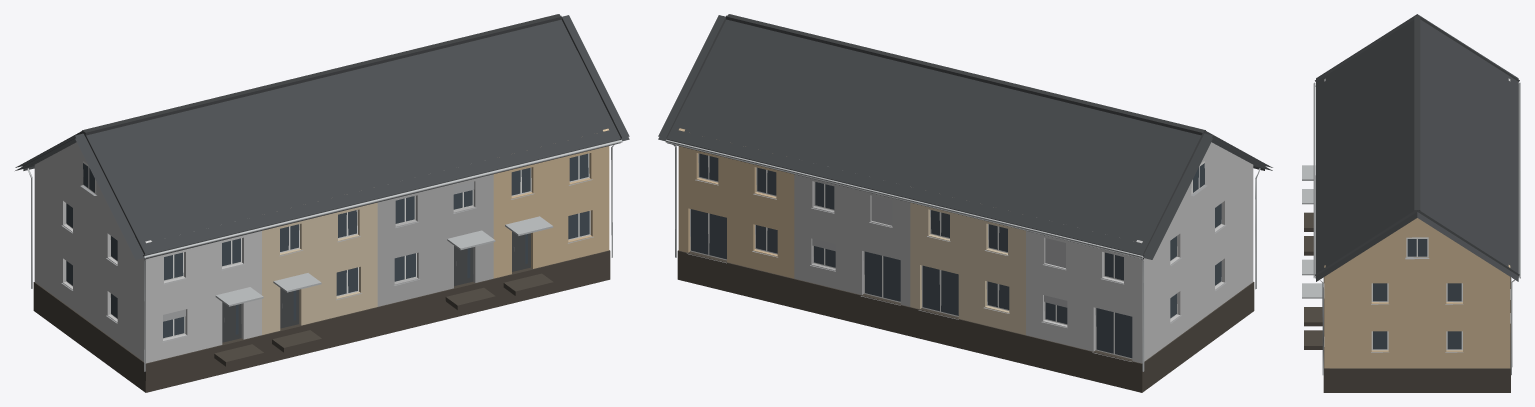
Rendered from house-terrace-row-lod1.glb.
The picture shows the model from 3 angles, left to right: view 1: azimuth 30°, elevation 25°; view 2: azimuth 150°, elevation 25°; view 3: azimuth 270°, elevation 25°; orthographic projection. The views are drawn at different scales.
Parts seen in each view (by area): view 1: house-terrace-row-plaster0.001; view 2: house-terrace-row-plaster0.001; view 3: house-terrace-row-plaster0.001.
Boxes of the visible parts, <box> form: house-terrace-row-plaster0.001: <box>15,14,629,392</box>; house-terrace-row-plaster0.001: <box>658,14,1272,392</box>; house-terrace-row-plaster0.001: <box>1302,14,1520,392</box>.
Bounding box in the file's own units: 25.6 × 11.01 × 11.77.
